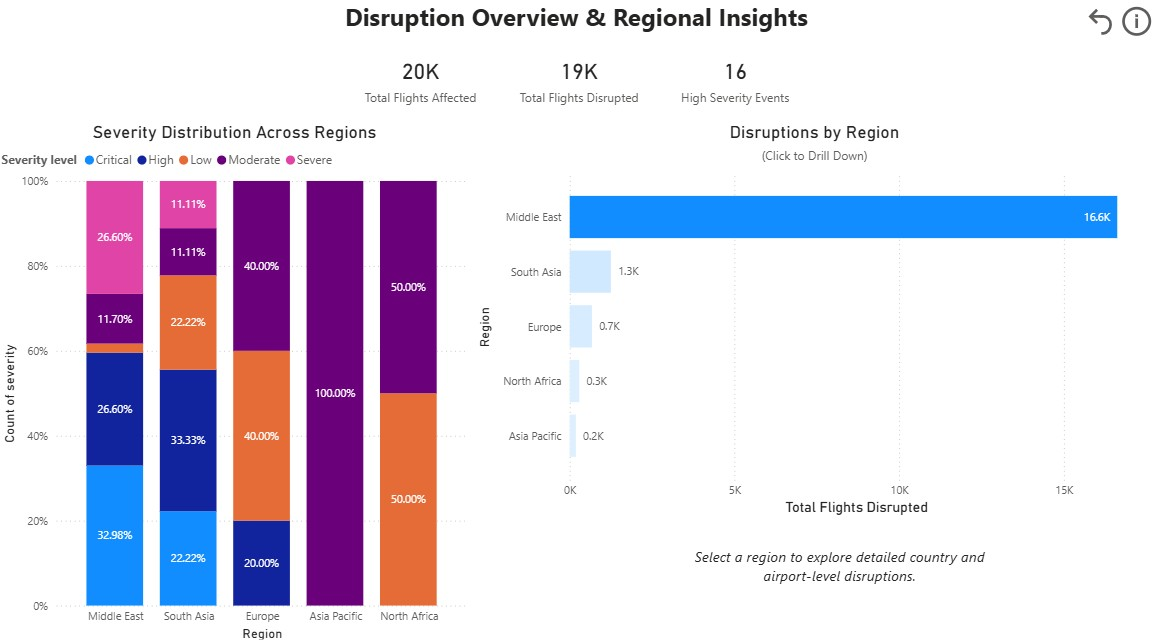

The dashboard page shown, as its layout file describes it:
{"tool":"powerbi","page":{"name":"Disruption Analysis","canvas":[1280,720],"ordinal":1},"visuals":[{"type":"textbox","box":[114.7,5,1051,49.9],"z":0},{"type":"card","fields":{"Values":["Fact_Airport_Disruptions.Total Flights Affected"]},"box":[377.8,49.9,179.5,93.5],"z":0,"group":"g1"},{"type":"group","id":"g1","title":"Group 1","box":[377.8,49.9,523.6,93.5],"z":1000},{"type":"card","fields":{"Values":["Fact_Airport_Disruptions.Total Flights Disrupted"]},"box":[557.3,49.9,172.1,93.5],"z":1000,"group":"g1"},{"type":"card","fields":{"Values":["Fact_Conflict_Events.High Severity Events"]},"box":[729.4,49.9,172.1,93.5],"z":2000,"group":"g1"},{"type":"barChart","title":"Disruptions by Region","fields":{"Category":["Dim_Country.region"],"Y":["Fact_Airport_Disruptions.Total Flights Disrupted"]},"box":[524.9,143.4,755.5,440.1],"z":2000},{"type":"hundredPercentStackedColumnChart","title":"Severity Distribution Across Regions","fields":{"Category":["Dim_Country.region"],"Series":["Fact_Airport_Disruptions.severity_level"],"Y":["CountNonNull(Fact_Airport_Disruptions.severity_level)"]},"box":[0,143.4,524.9,577.2],"z":3000},{"type":"textbox","box":[763,607.2,334.1,56.1],"z":4000},{"type":"actionButton","box":[1237.6,8.7,42.4,49.9],"z":5000},{"type":"actionButton","box":[1199.4,12.5,38.6,41.1],"z":6000}]}

Visuals, with their boxes in screenshot pixels (x1, y1, x2, y2), scaled from the page's 1280x720 canvas onto the 1156x642 screenshot:
textbox: left=104, top=4, right=1053, bottom=49
card - Fact_Airport_Disruptions.Total Flights Affected: left=341, top=44, right=503, bottom=128
"Group 1" group: left=341, top=44, right=814, bottom=128
card - Fact_Airport_Disruptions.Total Flights Disrupted: left=503, top=44, right=659, bottom=128
card - Fact_Conflict_Events.High Severity Events: left=659, top=44, right=814, bottom=128
"Disruptions by Region" barChart: left=474, top=128, right=1155, bottom=520
"Severity Distribution Across Regions" hundredPercentStackedColumnChart: left=0, top=128, right=474, bottom=641
textbox: left=689, top=541, right=991, bottom=591
actionButton: left=1118, top=8, right=1155, bottom=52
actionButton: left=1083, top=11, right=1118, bottom=48
